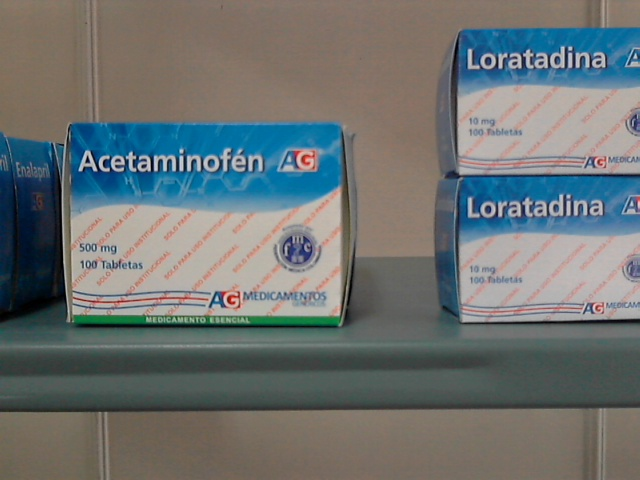AG: (71, 124, 341, 324)
